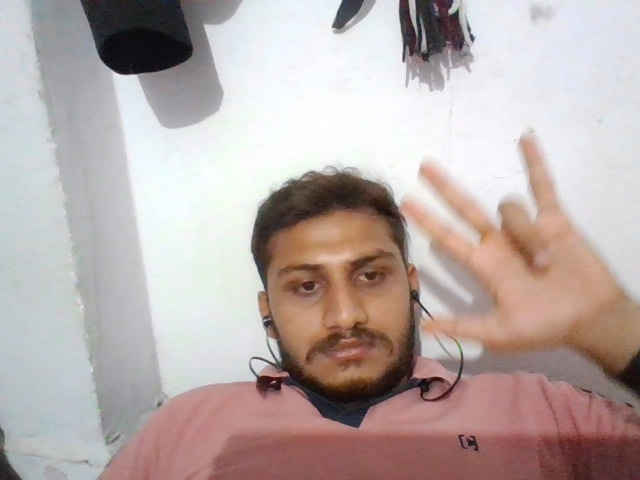ILoveYou: (394, 125, 625, 363)
